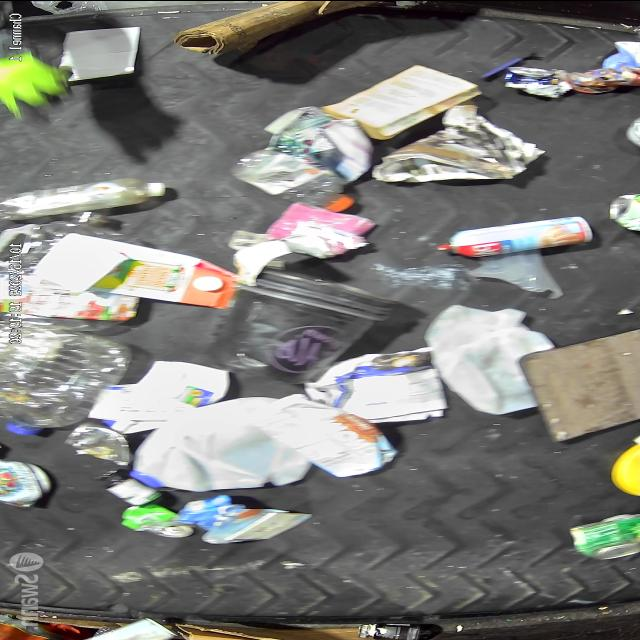can: (565, 511, 640, 561), (122, 503, 198, 538), (0, 457, 52, 507), (503, 66, 562, 100), (608, 191, 640, 232)
milk_jug: (126, 396, 314, 492), (423, 302, 555, 414)
plastic_bottle: (0, 328, 136, 436), (234, 150, 355, 212), (0, 176, 168, 220)
